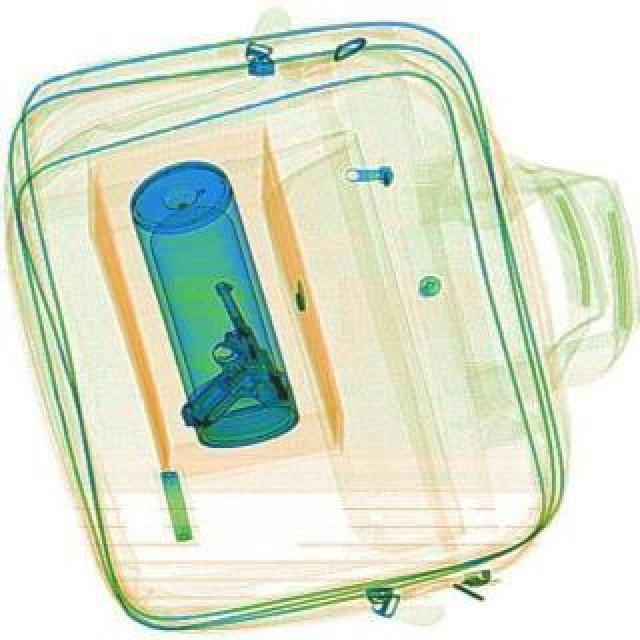gun: (128, 276, 294, 442)
